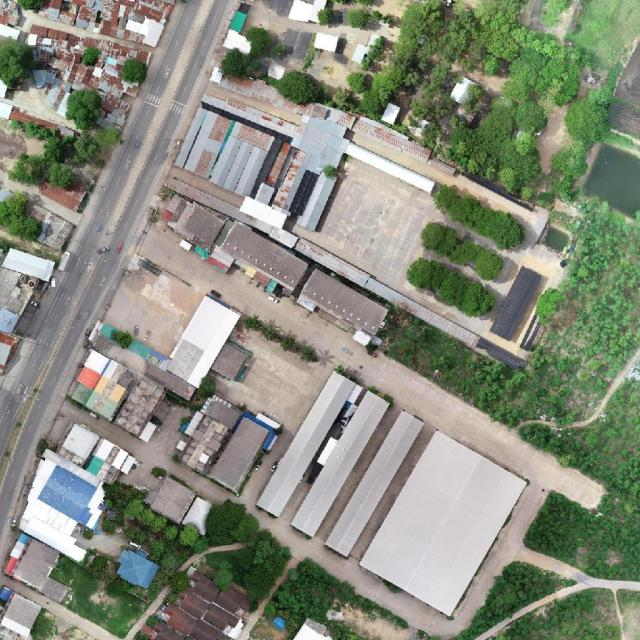building: (292, 235, 527, 375), (358, 429, 528, 617), (163, 172, 381, 292), (323, 409, 425, 557), (289, 390, 391, 538), (256, 370, 356, 518), (174, 104, 299, 209), (11, 449, 116, 564), (66, 348, 175, 443), (163, 294, 241, 389), (298, 268, 390, 340), (220, 220, 310, 292), (57, 420, 139, 491), (0, 247, 56, 342), (200, 88, 299, 139), (218, 67, 315, 119), (208, 415, 272, 493), (344, 142, 436, 194), (287, 111, 354, 181), (54, 26, 151, 73), (12, 539, 81, 604), (21, 24, 84, 93), (351, 113, 435, 164), (489, 265, 544, 342), (157, 192, 226, 252), (178, 413, 233, 476), (17, 201, 76, 253), (86, 48, 140, 101), (271, 147, 313, 212), (147, 475, 198, 525), (296, 170, 337, 232), (37, 167, 89, 213), (111, 547, 160, 592), (56, 421, 101, 468), (0, 593, 43, 639), (239, 195, 289, 230), (211, 340, 250, 382), (8, 107, 59, 137), (183, 568, 223, 605), (182, 497, 219, 537), (97, 91, 131, 129), (66, 61, 103, 95), (206, 397, 242, 431), (282, 28, 314, 61), (44, 85, 71, 116), (325, 105, 357, 130), (314, 32, 339, 52), (350, 43, 369, 65), (53, 87, 66, 112), (59, 109, 64, 114)
dryland: (212, 322, 334, 437), (100, 252, 207, 359)
greenland: (519, 378, 640, 579), (83, 469, 212, 587), (432, 89, 549, 202), (41, 534, 159, 640), (539, 81, 621, 210), (40, 555, 147, 640), (264, 62, 387, 132), (429, 175, 531, 257), (402, 249, 500, 325), (8, 121, 102, 191), (416, 216, 508, 285), (222, 526, 300, 605), (0, 188, 47, 251), (203, 496, 261, 546), (205, 550, 248, 591), (0, 38, 35, 87), (65, 88, 102, 131), (238, 22, 276, 61), (216, 45, 252, 82), (121, 58, 147, 83)
unmetalled_road: (249, 298, 609, 557), (135, 220, 240, 309), (486, 481, 551, 570), (223, 272, 298, 335), (514, 544, 590, 589), (124, 583, 173, 640), (176, 536, 246, 572)
